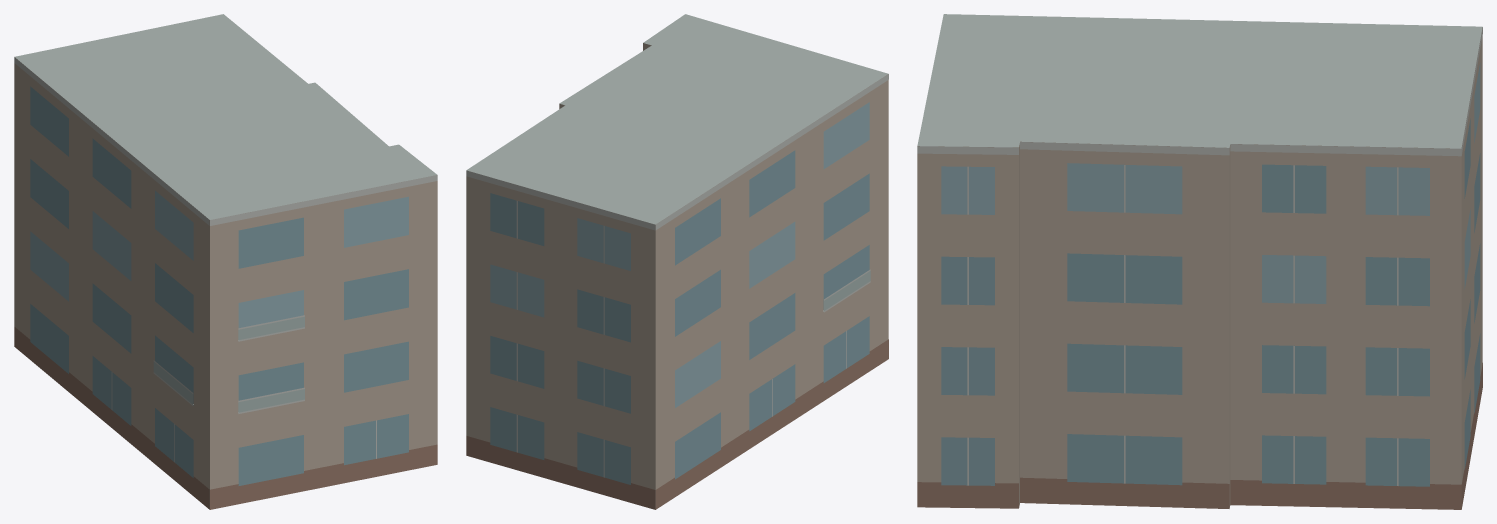
File: survey-upis-32768148.glb
The picture shows the model from 3 angles, left to right: view 1: azimuth 30°, elevation 25°; view 2: azimuth 150°, elevation 25°; view 3: azimuth 270°, elevation 25°; orthographic projection. The views are drawn at different scales.
Parts seen in each view (by area): view 1: survey-upis-32768148.tmp; view 2: survey-upis-32768148.tmp; view 3: survey-upis-32768148.tmp.
Boxes of the visible parts, box(x1,y1,x2,y2) form: survey-upis-32768148.tmp: box(14, 14, 437, 509); survey-upis-32768148.tmp: box(466, 14, 888, 509); survey-upis-32768148.tmp: box(917, 14, 1482, 509).
Bounding box in the file's own units: 9.37 × 11.7 × 16.61.
